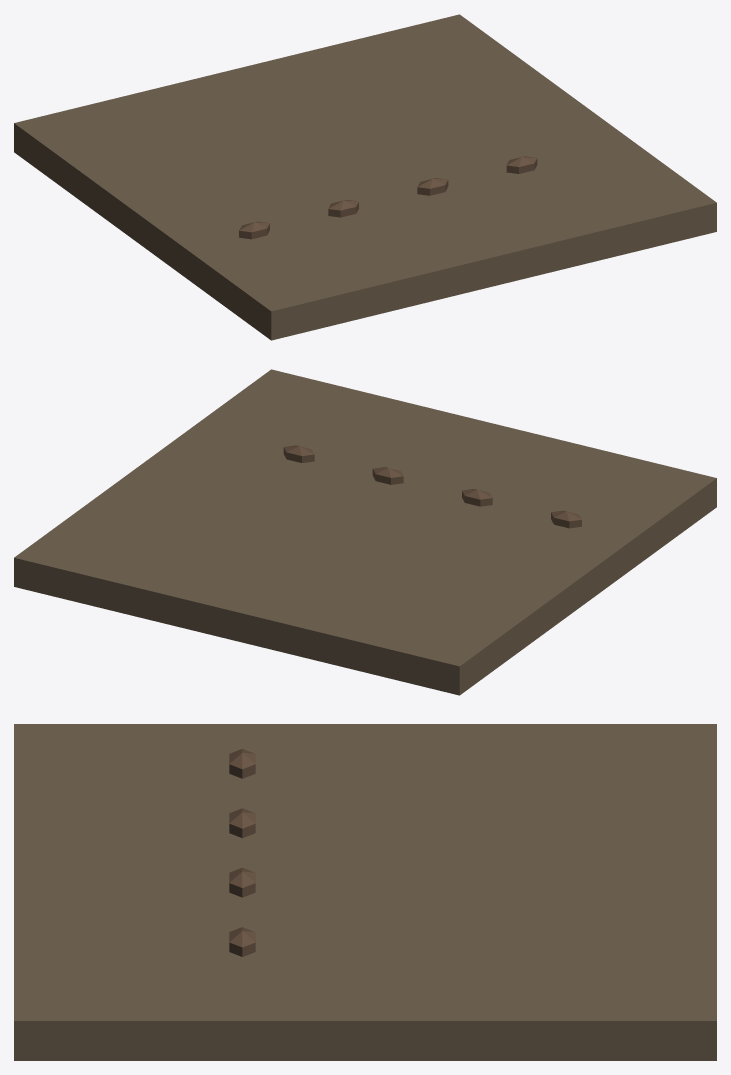
The model's file is terrain-soil-flat.lod0.glb.
The picture shows the model from 3 angles, top to bottom: view 1: azimuth 30°, elevation 25°; view 2: azimuth 150°, elevation 25°; view 3: azimuth 270°, elevation 25°; orthographic projection. The views are drawn at different scales.
Visible parts, largest first — view 1: terrain-soil-flat__body; view 2: terrain-soil-flat__body; view 3: terrain-soil-flat__body.
Part boxes in pixels (x1=…): terrain-soil-flat__body: x1=14, y1=14, x2=716, y2=340; terrain-soil-flat__body: x1=14, y1=369, x2=716, y2=695; terrain-soil-flat__body: x1=14, y1=724, x2=716, y2=1060.
Bounding box in the file's own units: 2 × 0.175 × 2.
